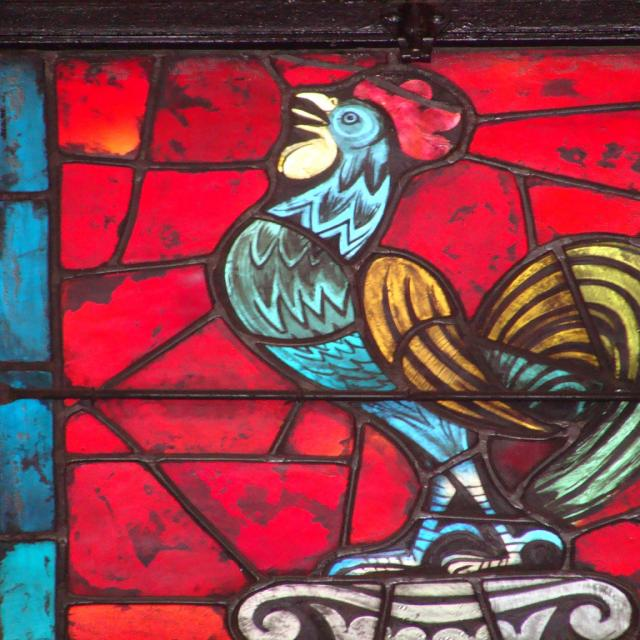Chicken: (213, 74, 640, 578)
